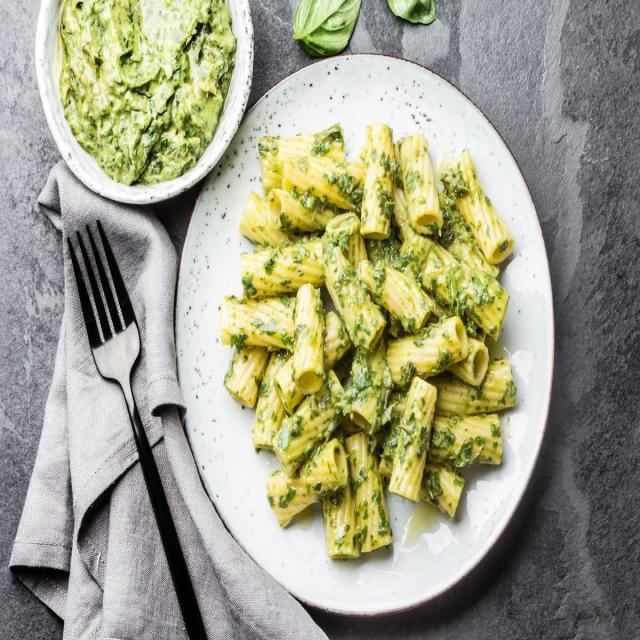aguacate: (47, 3, 240, 190)
pasta: (216, 136, 519, 568)
